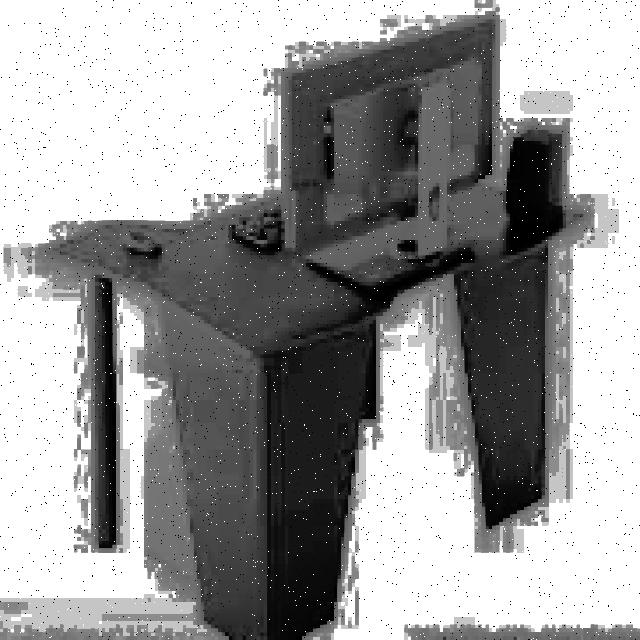table: (46, 179, 590, 640)
